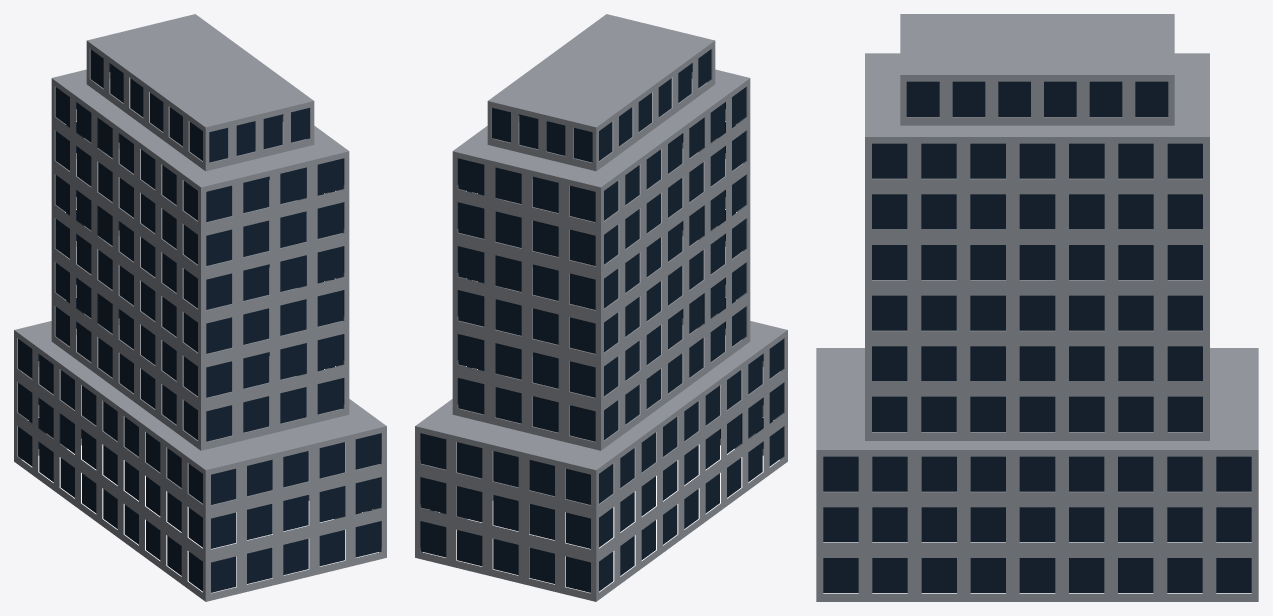
Rendered from Residential Buildings 003.obj.
The picture shows the model from 3 angles, left to right: view 1: azimuth 30°, elevation 25°; view 2: azimuth 150°, elevation 25°; view 3: azimuth 270°, elevation 25°; orthographic projection. The views are drawn at different scales.
Visible parts, largest first — view 1: Residential; view 2: Residential; view 3: Residential.
Boxes of the visible parts, x1,y1,x2,y2 form: Residential: [14, 14, 386, 601]; Residential: [415, 14, 787, 601]; Residential: [816, 14, 1258, 601].
Size of the model in its own units: 12.59 by 29.19 by 23.1.
